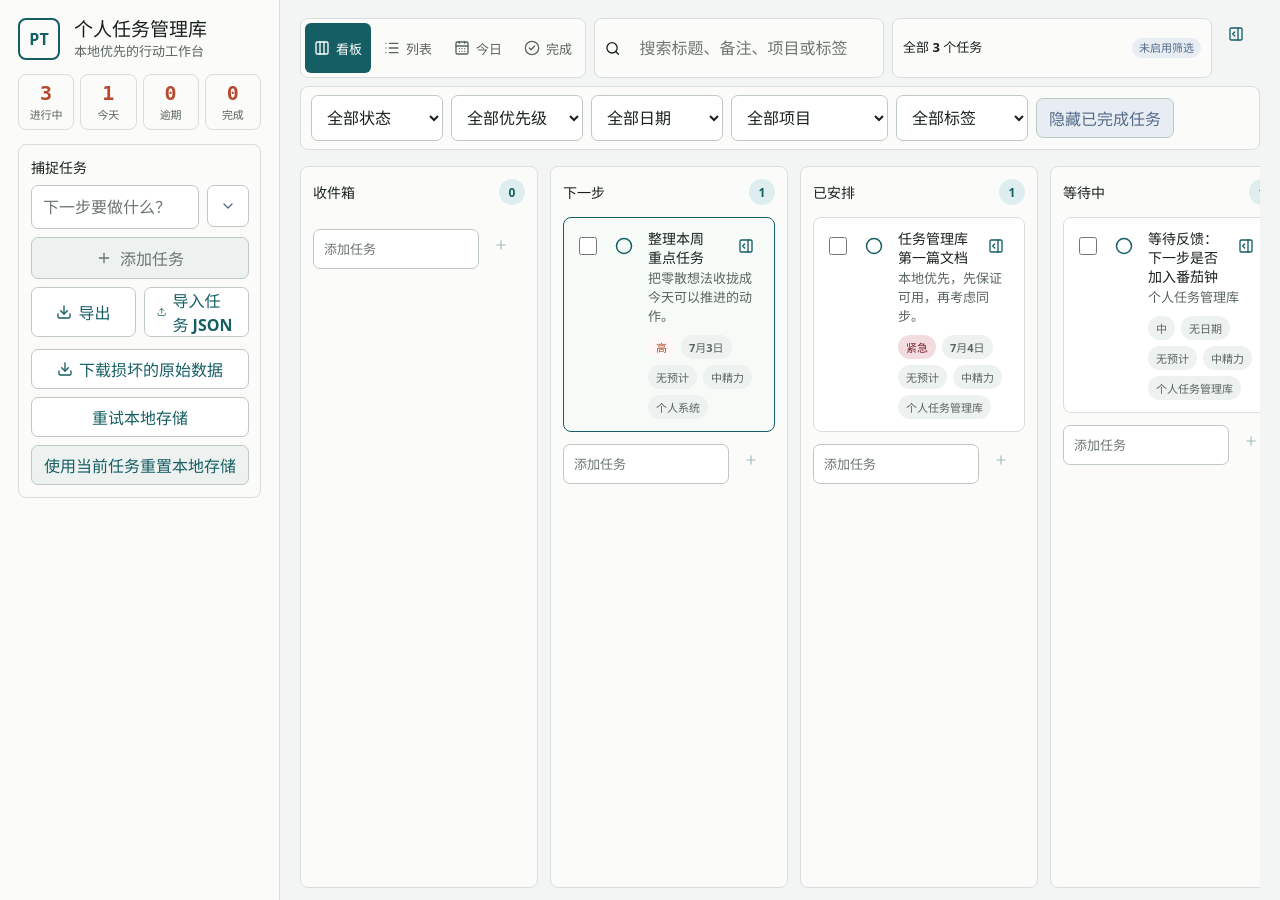
Test case: TaskWorkspace › retries storage and adopts a newly valid task snapshot
The width and height of the screenshot is (1280, 900).
Click the button "重试本地存储". click: click(140, 417)
box: [31,397,249,437]
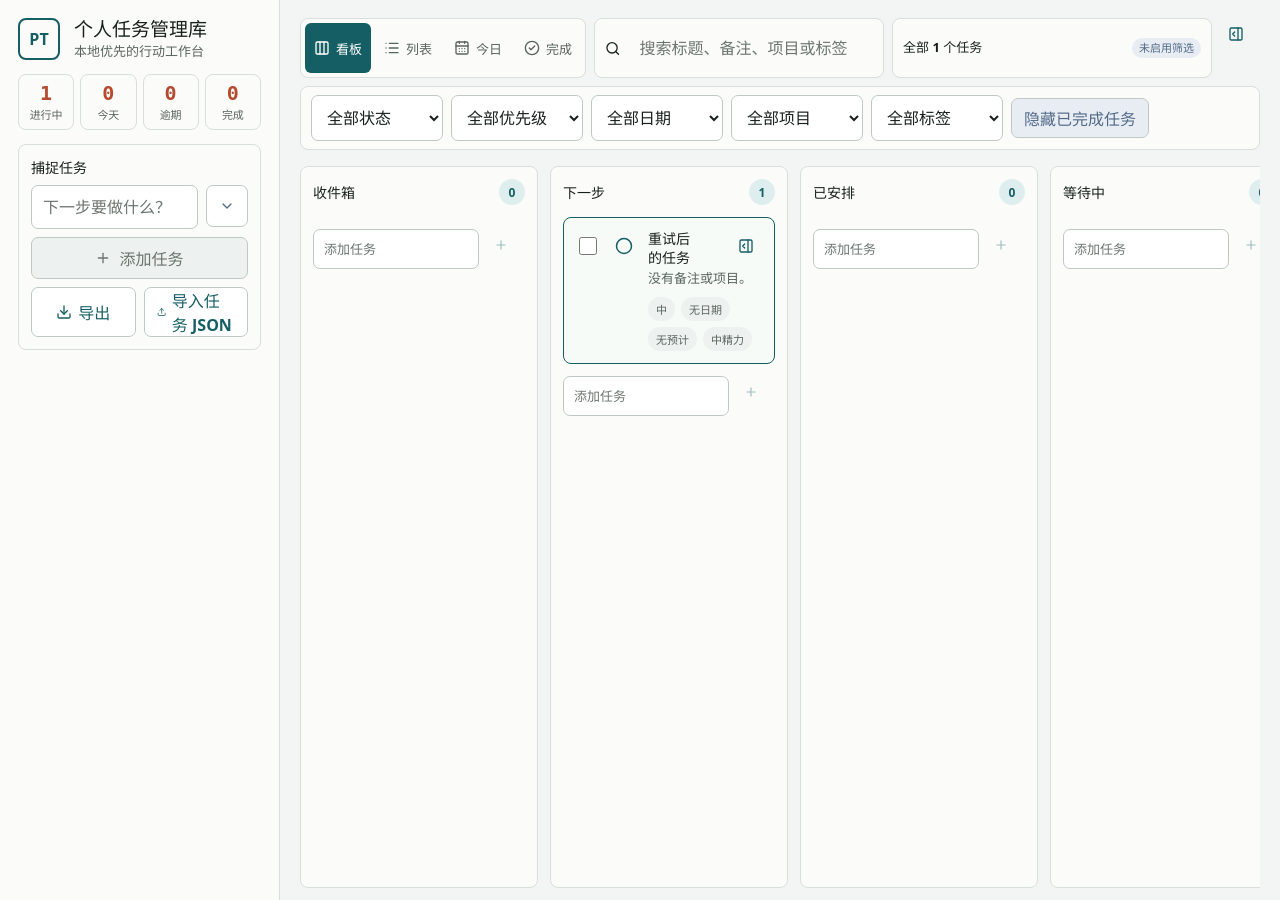
Now the heading "重试后的任务" is shown, box [648,229,690,267]
Now the button "下载损坏的原始数据" is gone
